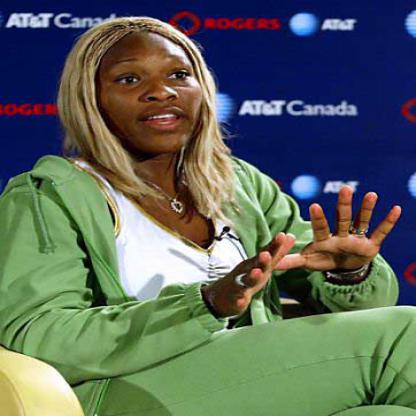face: (89, 19, 209, 157)
